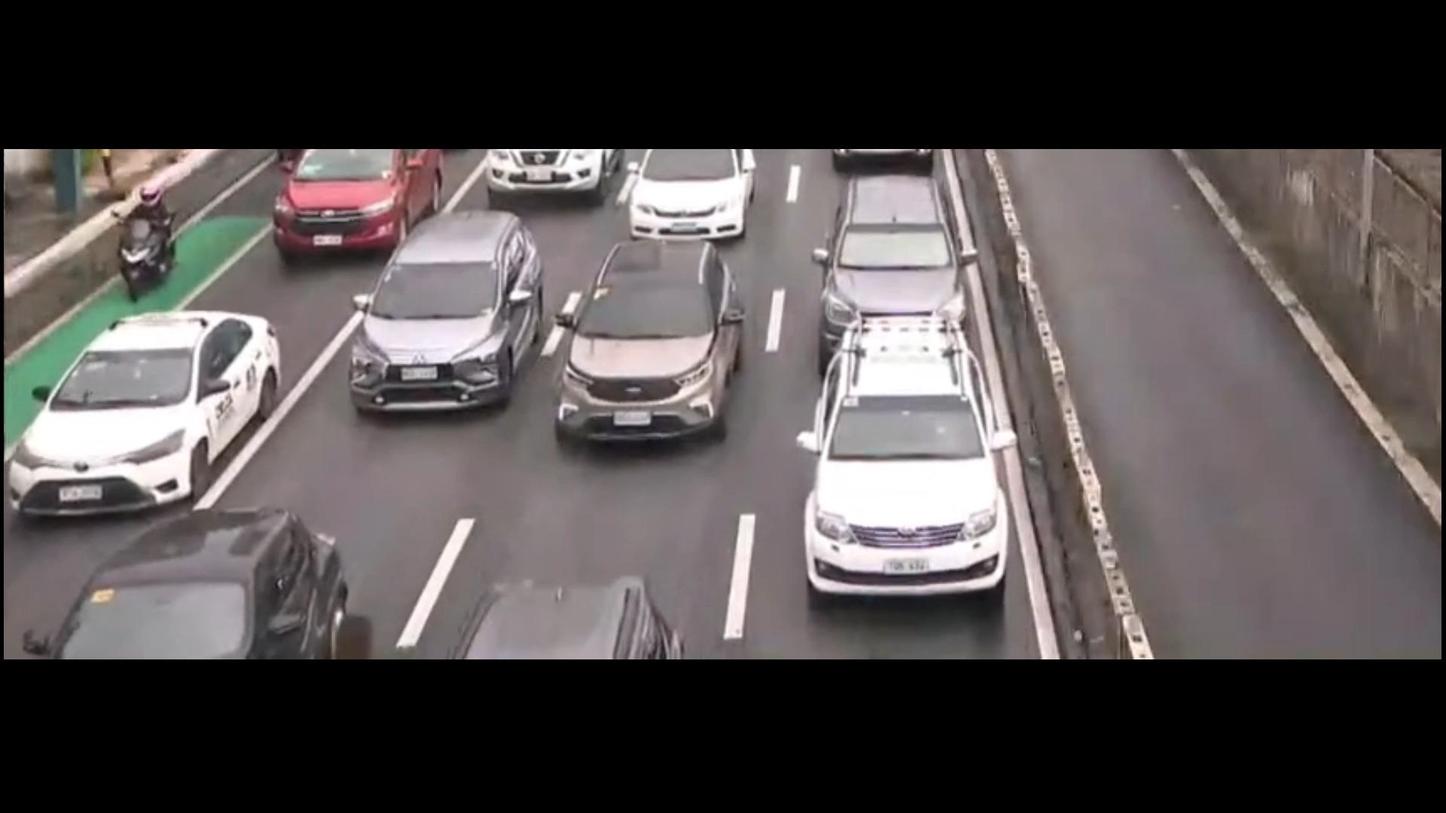Motorcycle: (96, 179, 186, 312)
SUV: (808, 314, 1020, 602), (24, 501, 356, 661), (548, 233, 746, 454), (358, 213, 537, 414), (811, 179, 987, 359)
Sedan: (19, 314, 273, 512), (262, 149, 441, 263), (625, 139, 751, 239)
